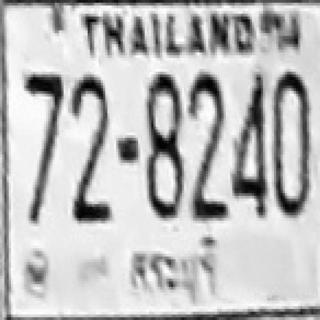N00: (272, 69, 309, 215)
N02: (69, 102, 111, 221), (70, 73, 110, 194), (187, 72, 225, 196), (190, 102, 227, 218)
N04: (231, 72, 266, 215), (231, 70, 266, 175)
N07: (24, 72, 64, 188), (23, 72, 62, 177)
N08: (145, 73, 182, 216)
P60: (115, 236, 221, 305)
